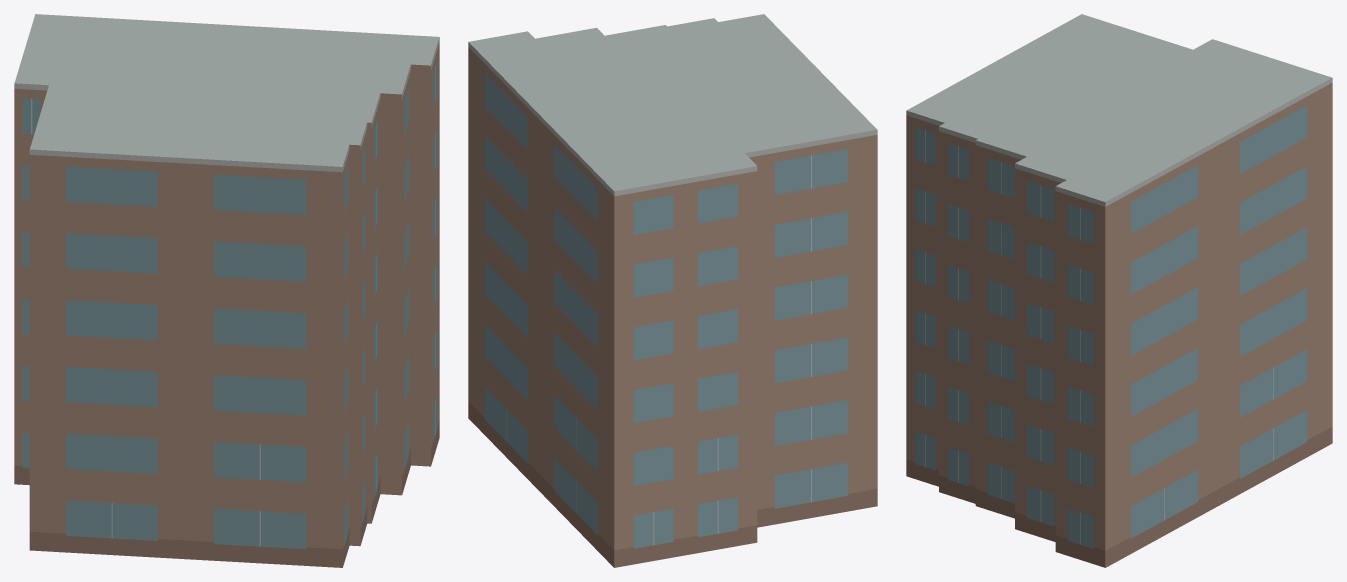
File: survey-upis-32865666.glb
The picture shows the model from 3 angles, left to right: view 1: azimuth 30°, elevation 25°; view 2: azimuth 150°, elevation 25°; view 3: azimuth 270°, elevation 25°; orthographic projection. The views are drawn at different scales.
Visible parts, largest first — view 1: survey-upis-32865666.tmp; view 2: survey-upis-32865666.tmp; view 3: survey-upis-32865666.tmp.
Part boxes in pixels (x1,y1,x2,y2): survey-upis-32865666.tmp: [14, 14, 439, 567]; survey-upis-32865666.tmp: [468, 14, 877, 567]; survey-upis-32865666.tmp: [906, 14, 1332, 567].
Bounding box in the file's own units: 20.41 × 18.49 × 19.53.
